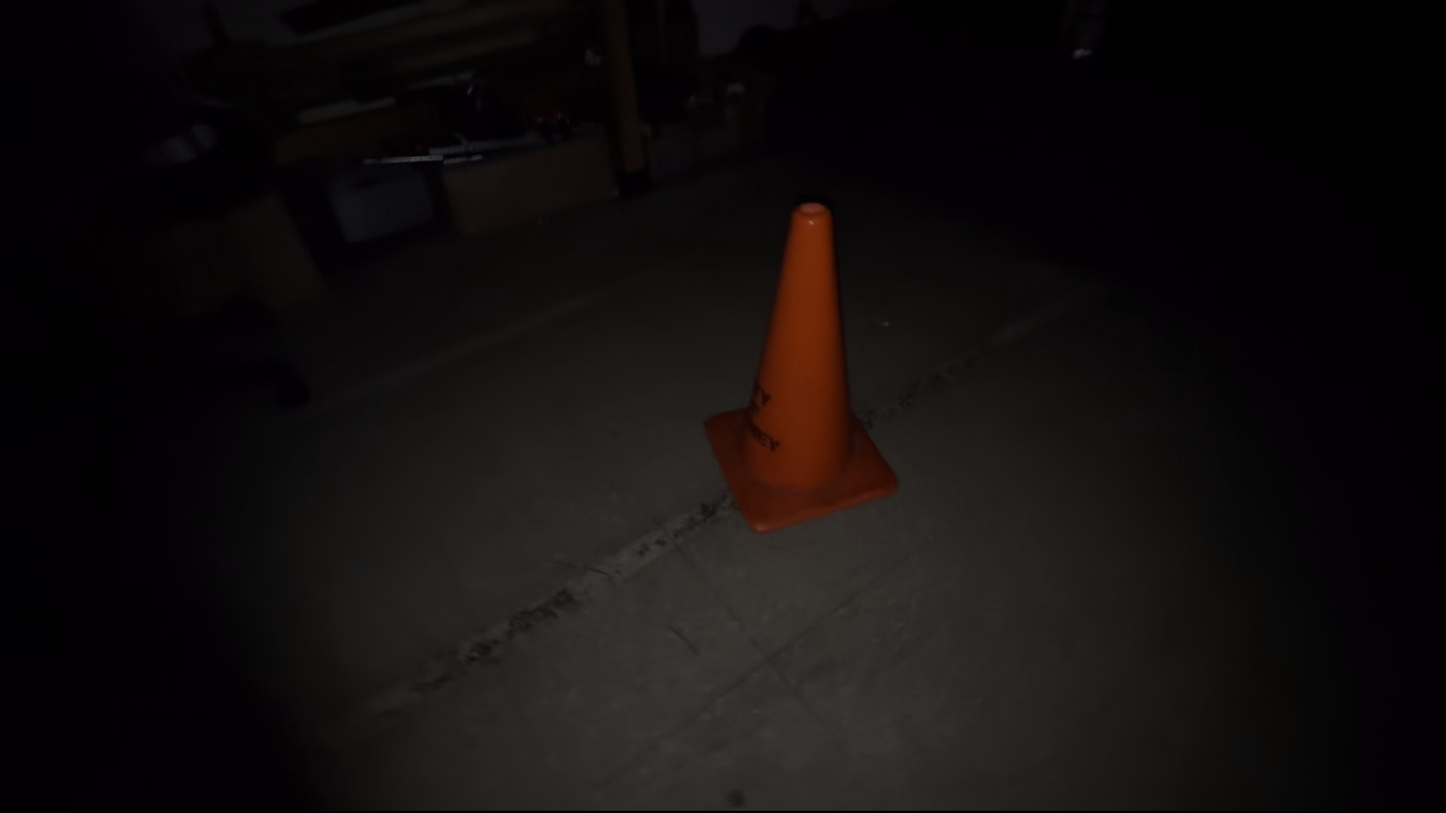traffic_cone: (702, 201, 900, 534)
